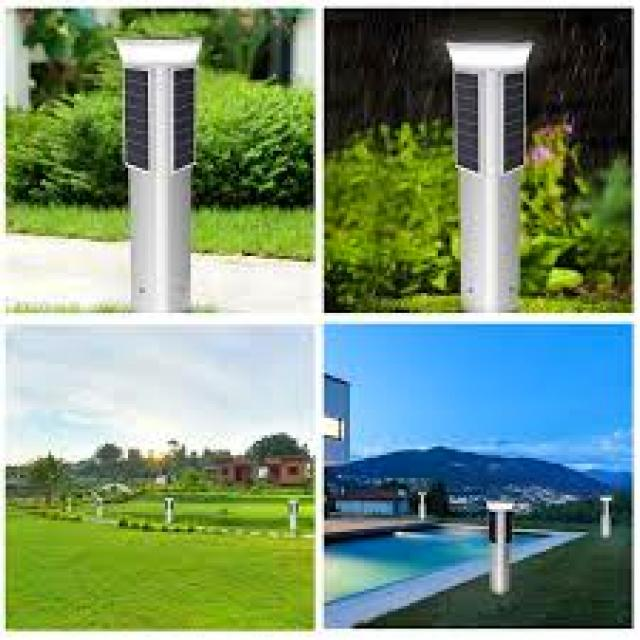bollard: (110, 30, 210, 312), (444, 22, 536, 311), (479, 491, 513, 602), (596, 489, 619, 538), (283, 491, 301, 536), (162, 493, 182, 532), (415, 485, 434, 519), (90, 489, 109, 522), (64, 492, 79, 515)
